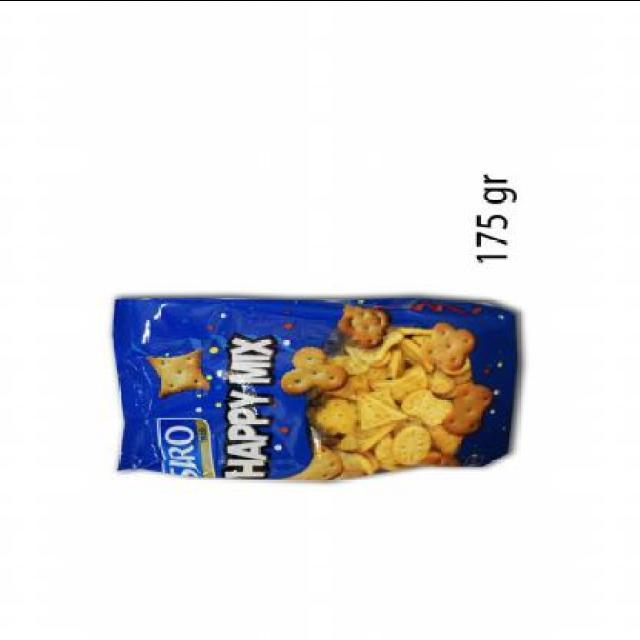Salatini: (108, 292, 522, 484)
